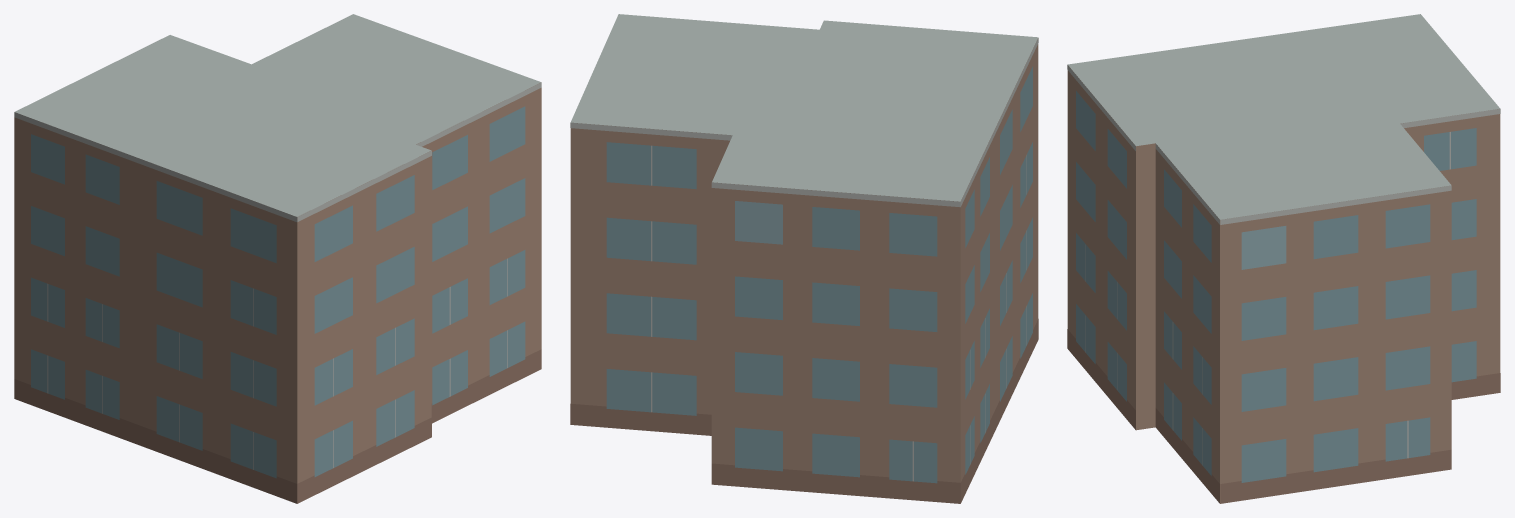
Rendered from survey-upis-32703725.glb.
3 renders of one model, left to right at view 1: azimuth 30°, elevation 25°; view 2: azimuth 150°, elevation 25°; view 3: azimuth 270°, elevation 25°, orthographic. The views are drawn at different scales.
Parts seen in each view (by area): view 1: survey-upis-32703725.tmp; view 2: survey-upis-32703725.tmp; view 3: survey-upis-32703725.tmp.
Boxes of the visible parts, x1,y1,x2,y2 form: survey-upis-32703725.tmp: [14, 14, 541, 503]; survey-upis-32703725.tmp: [570, 14, 1038, 503]; survey-upis-32703725.tmp: [1067, 14, 1500, 503].
Size of the model in its own units: 20.52 by 13.2 by 18.24.
